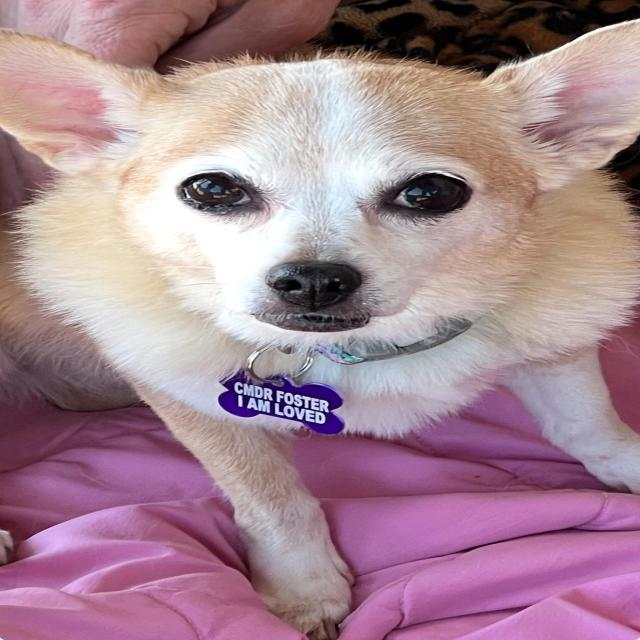corgi_dog: (0, 14, 640, 357)
